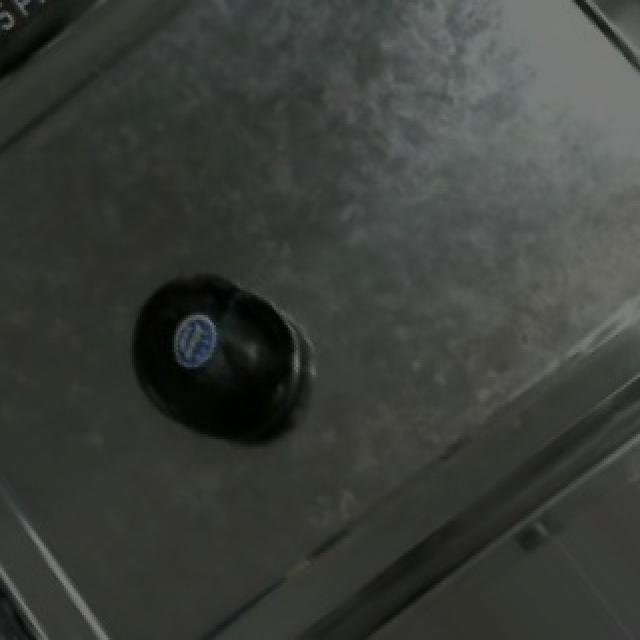Fruit: (134, 268, 320, 464), (550, 0, 640, 89)
